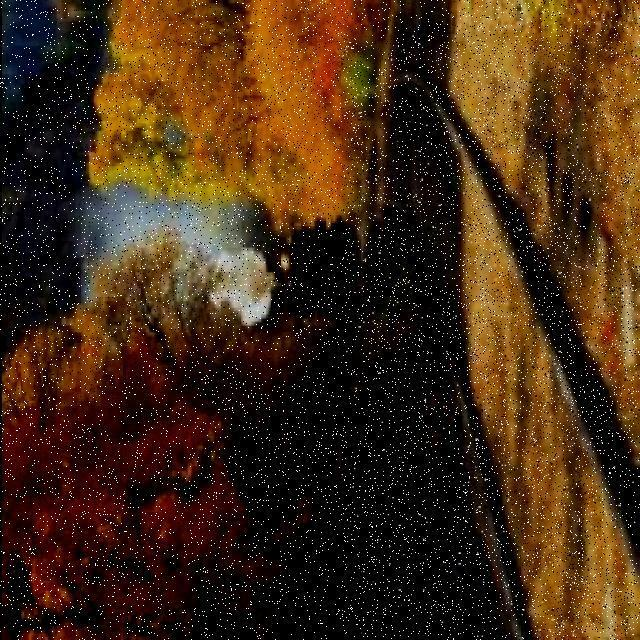rail: (341, 36, 638, 636)
